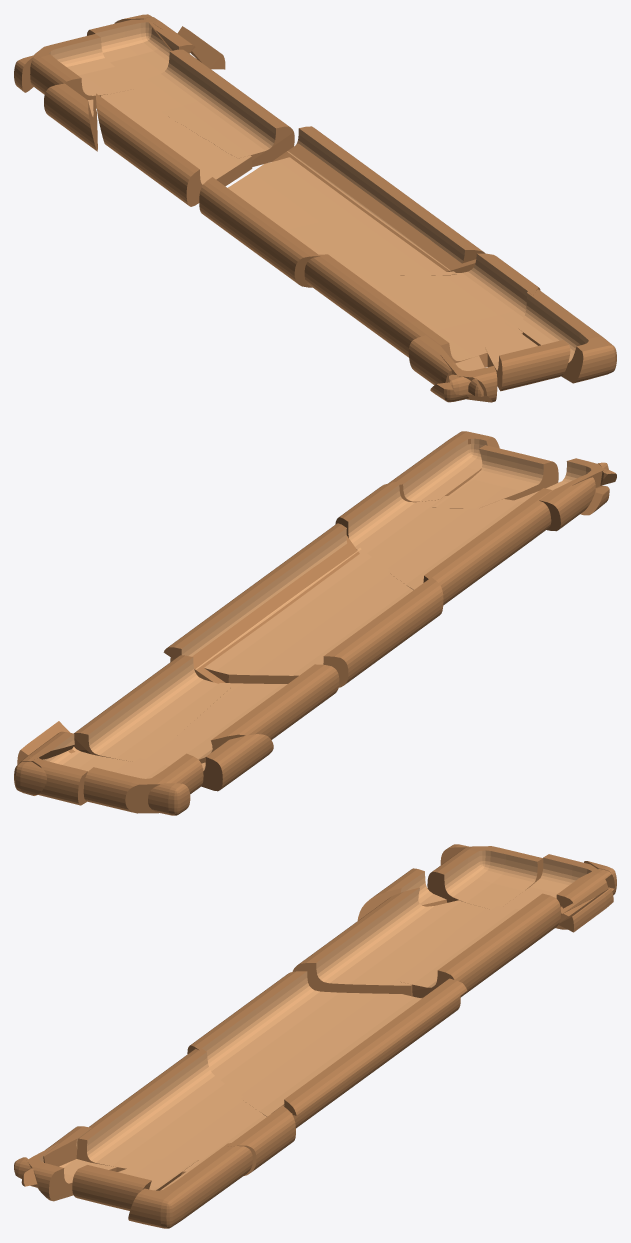
The model's file is Button2.fbx.
The picture shows the model from 3 angles, top to bottom: view 1: azimuth 30°, elevation 25°; view 2: azimuth 150°, elevation 25°; view 3: azimuth 330°, elevation 25°; orthographic projection.
Visible parts, largest first — view 1: Button2_cell.001, Button2_cell.004, Button2_cell.017, Button2_cell.015, Button2_cell.020, Button2_cell.010, Button2_cell.003, Button2_cell.008, Button2_cell, Button2_cell.016, Button2_cell.009, Button2_cell.019 (+4 smaller); view 2: Button2_cell.001, Button2_cell.004, Button2_cell.017, Button2_cell.015, Button2_cell.020, Button2_cell.008, Button2_cell.003, Button2_cell.010, Button2_cell, Button2_cell.016, Button2_cell.009, Button2_cell.019 (+5 smaller); view 3: Button2_cell.001, Button2_cell.004, Button2_cell.015, Button2_cell.017, Button2_cell.003, Button2_cell.010, Button2_cell.020, Button2_cell.008, Button2_cell.016, Button2_cell, Button2_cell.014, Button2_cell.009 (+3 smaller).
Part boxes in pixels (<box>): Button2_cell.001: <box>199,157,457,287</box>; Button2_cell.004: <box>304,253,540,367</box>; Button2_cell.017: <box>131,49,294,166</box>; Button2_cell.015: <box>96,90,252,206</box>; Button2_cell.020: <box>296,126,485,263</box>; Button2_cell.010: <box>518,289,616,383</box>; Button2_cell.003: <box>30,34,135,108</box>; Button2_cell.008: <box>481,322,570,391</box>; Button2_cell: <box>272,143,476,272</box>; Button2_cell.016: <box>87,19,170,82</box>; Button2_cell.009: <box>44,83,97,151</box>; Button2_cell.019: <box>408,335,457,385</box>; Button2_cell.001: <box>204,547,443,687</box>; Button2_cell.004: <box>335,480,552,605</box>; Button2_cell.017: <box>74,655,231,761</box>; Button2_cell.015: <box>146,664,339,765</box>; Button2_cell.020: <box>163,523,346,659</box>; Button2_cell.008: <box>432,445,558,508</box>; Button2_cell.003: <box>83,753,203,813</box>; Button2_cell.010: <box>388,431,499,502</box>; Button2_cell: <box>170,535,359,683</box>; Button2_cell.016: <box>29,746,127,805</box>; Button2_cell.009: <box>201,734,273,791</box>; Button2_cell.019: <box>539,474,595,531</box>; Button2_cell.001: <box>187,971,421,1116</box>; Button2_cell.004: <box>76,1049,295,1175</box>; Button2_cell.015: <box>292,887,485,996</box>; Button2_cell.017: <box>399,893,560,997</box>; Button2_cell.003: <box>427,846,543,909</box>; Button2_cell.010: <box>128,1143,252,1228</box>; Button2_cell.020: <box>284,978,467,1115</box>; Button2_cell.008: <box>72,1159,198,1210</box>; Button2_cell.016: <box>503,854,608,914</box>; Button2_cell: <box>271,996,460,1128</box>; Button2_cell.014: <box>26,1143,116,1201</box>; Button2_cell.009: <box>357,868,447,920</box>.
Size of the model in its own units: 148 by 27.24 by 687.
